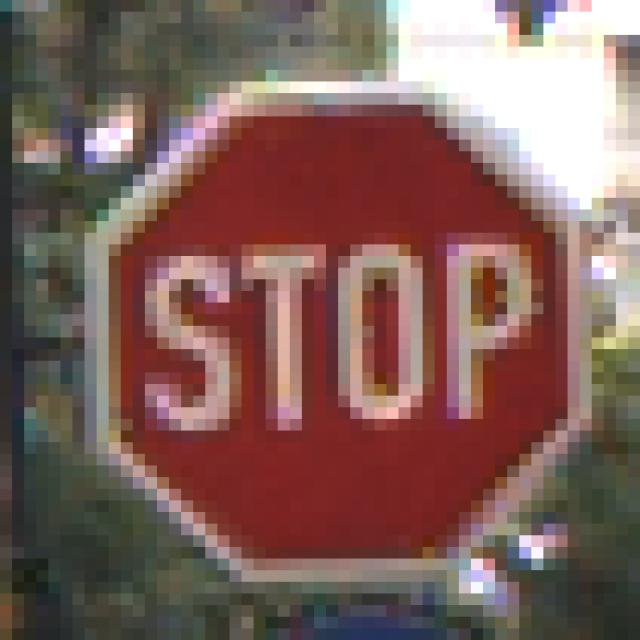STOP: (74, 71, 581, 571)
